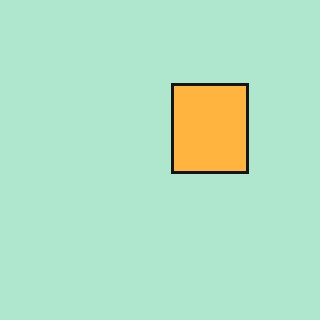square_target: (172, 84, 248, 173)
